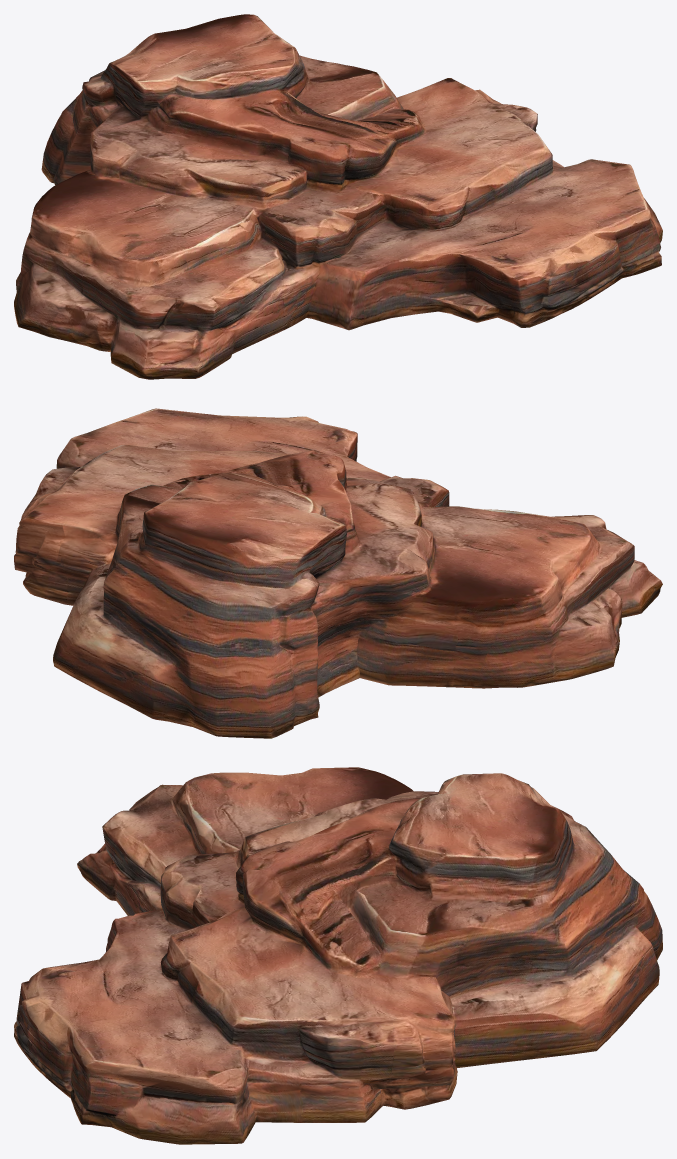
The model's file is 10_Red_Rock_Platform.glb.
3 renders of one model, top to bottom at view 1: azimuth 30°, elevation 25°; view 2: azimuth 150°, elevation 25°; view 3: azimuth 270°, elevation 25°, orthographic. The views are drawn at different scales.
Size of the model in its own units: 1.9 by 0.465 by 1.66.
1 material, 1 textured.
